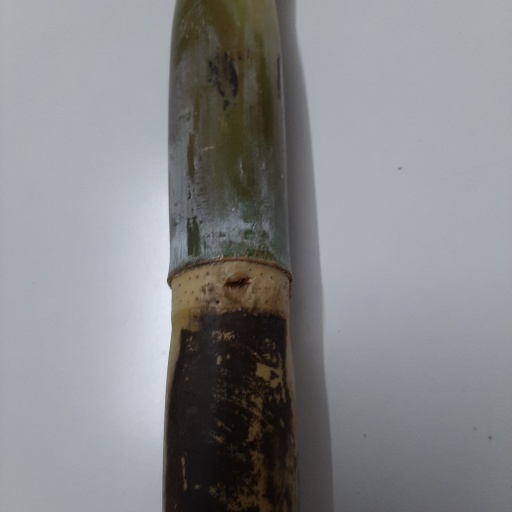Damage_Bud: (222, 271, 253, 303)
